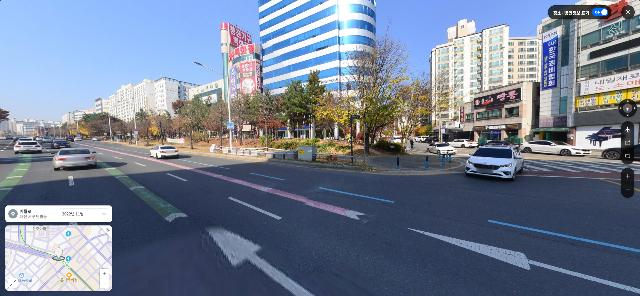other: (312, 23, 445, 154), (389, 69, 464, 146), (241, 85, 284, 149), (281, 76, 313, 141), (176, 96, 207, 148), (305, 70, 328, 140), (207, 97, 230, 147), (143, 105, 170, 143), (132, 111, 151, 143)
